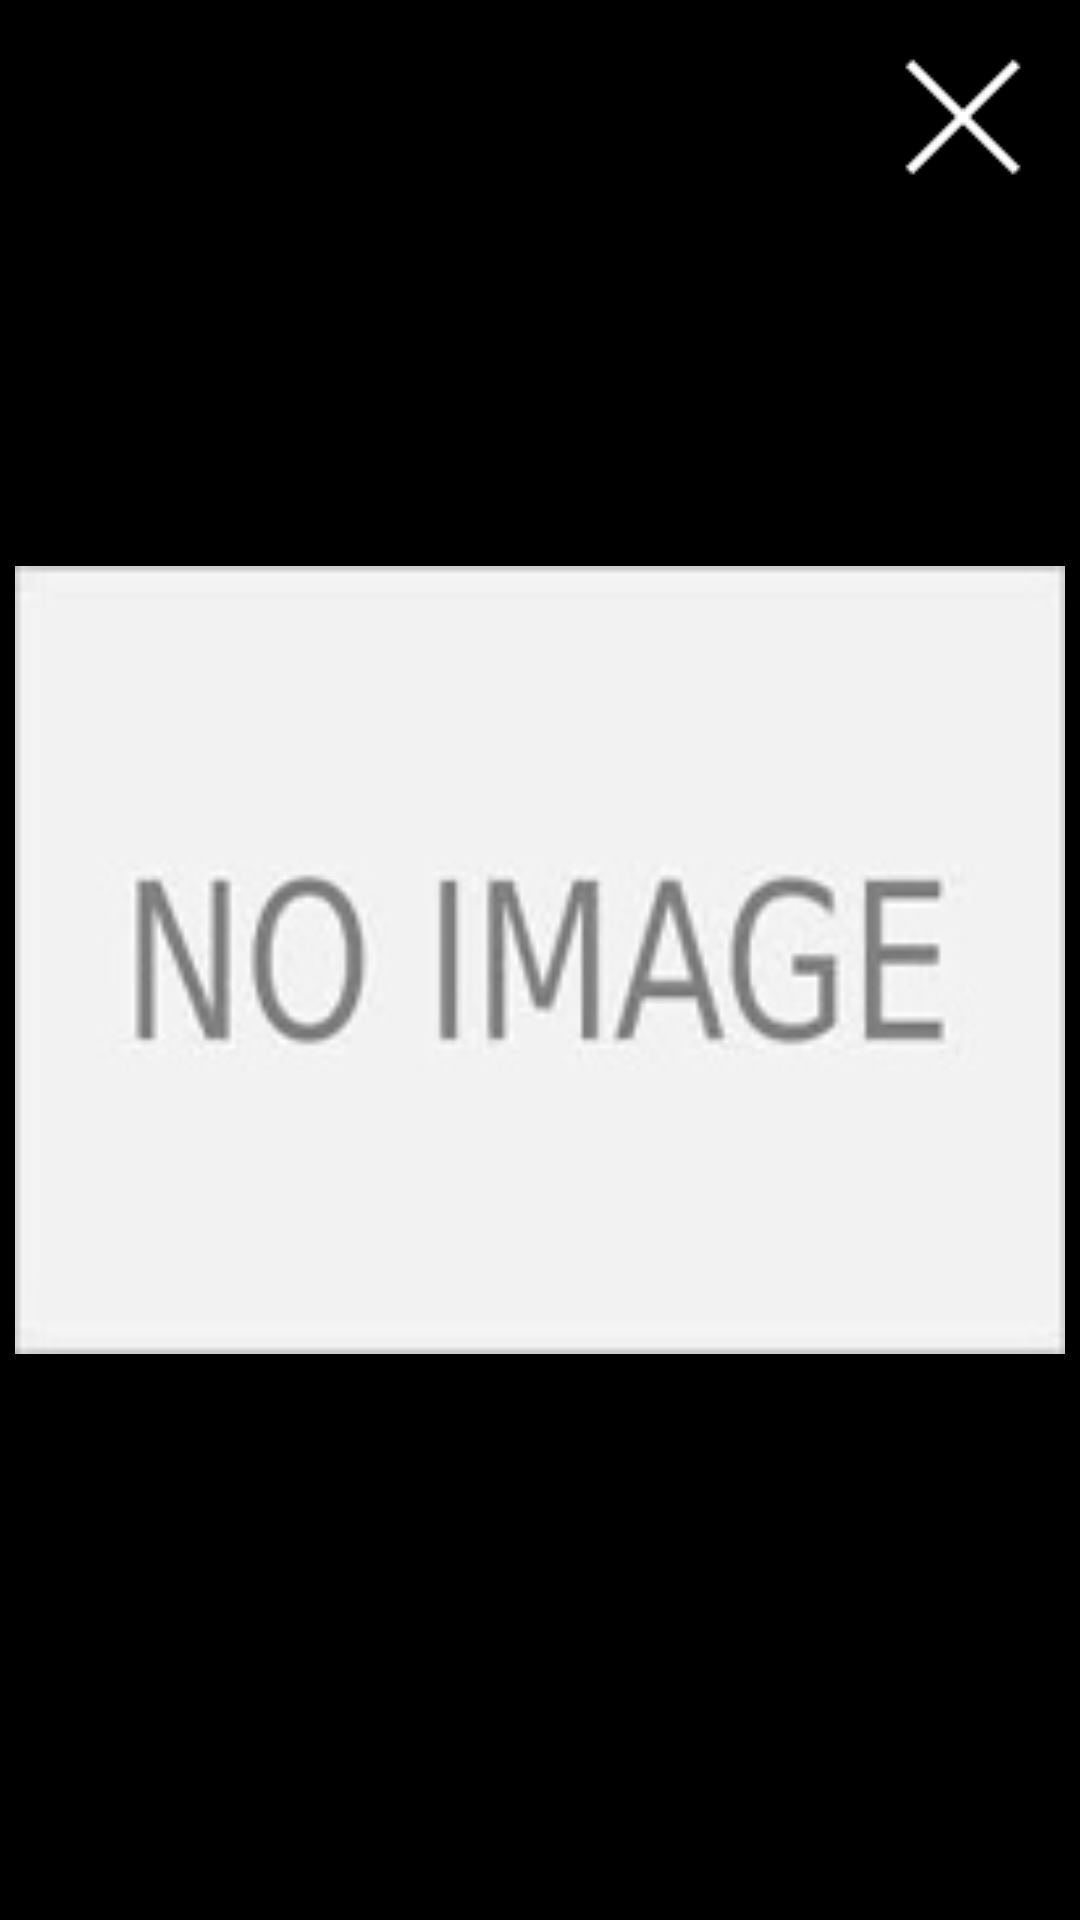

Icon click points for this 1080 × 1920 phone screenshot, format (x=x, y=y):
close dialog: (x=963, y=117)
